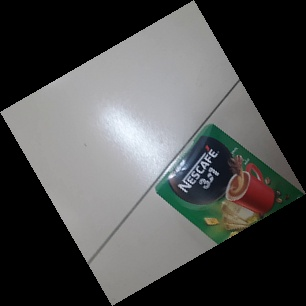Nes Rang: (153, 122, 306, 266)
